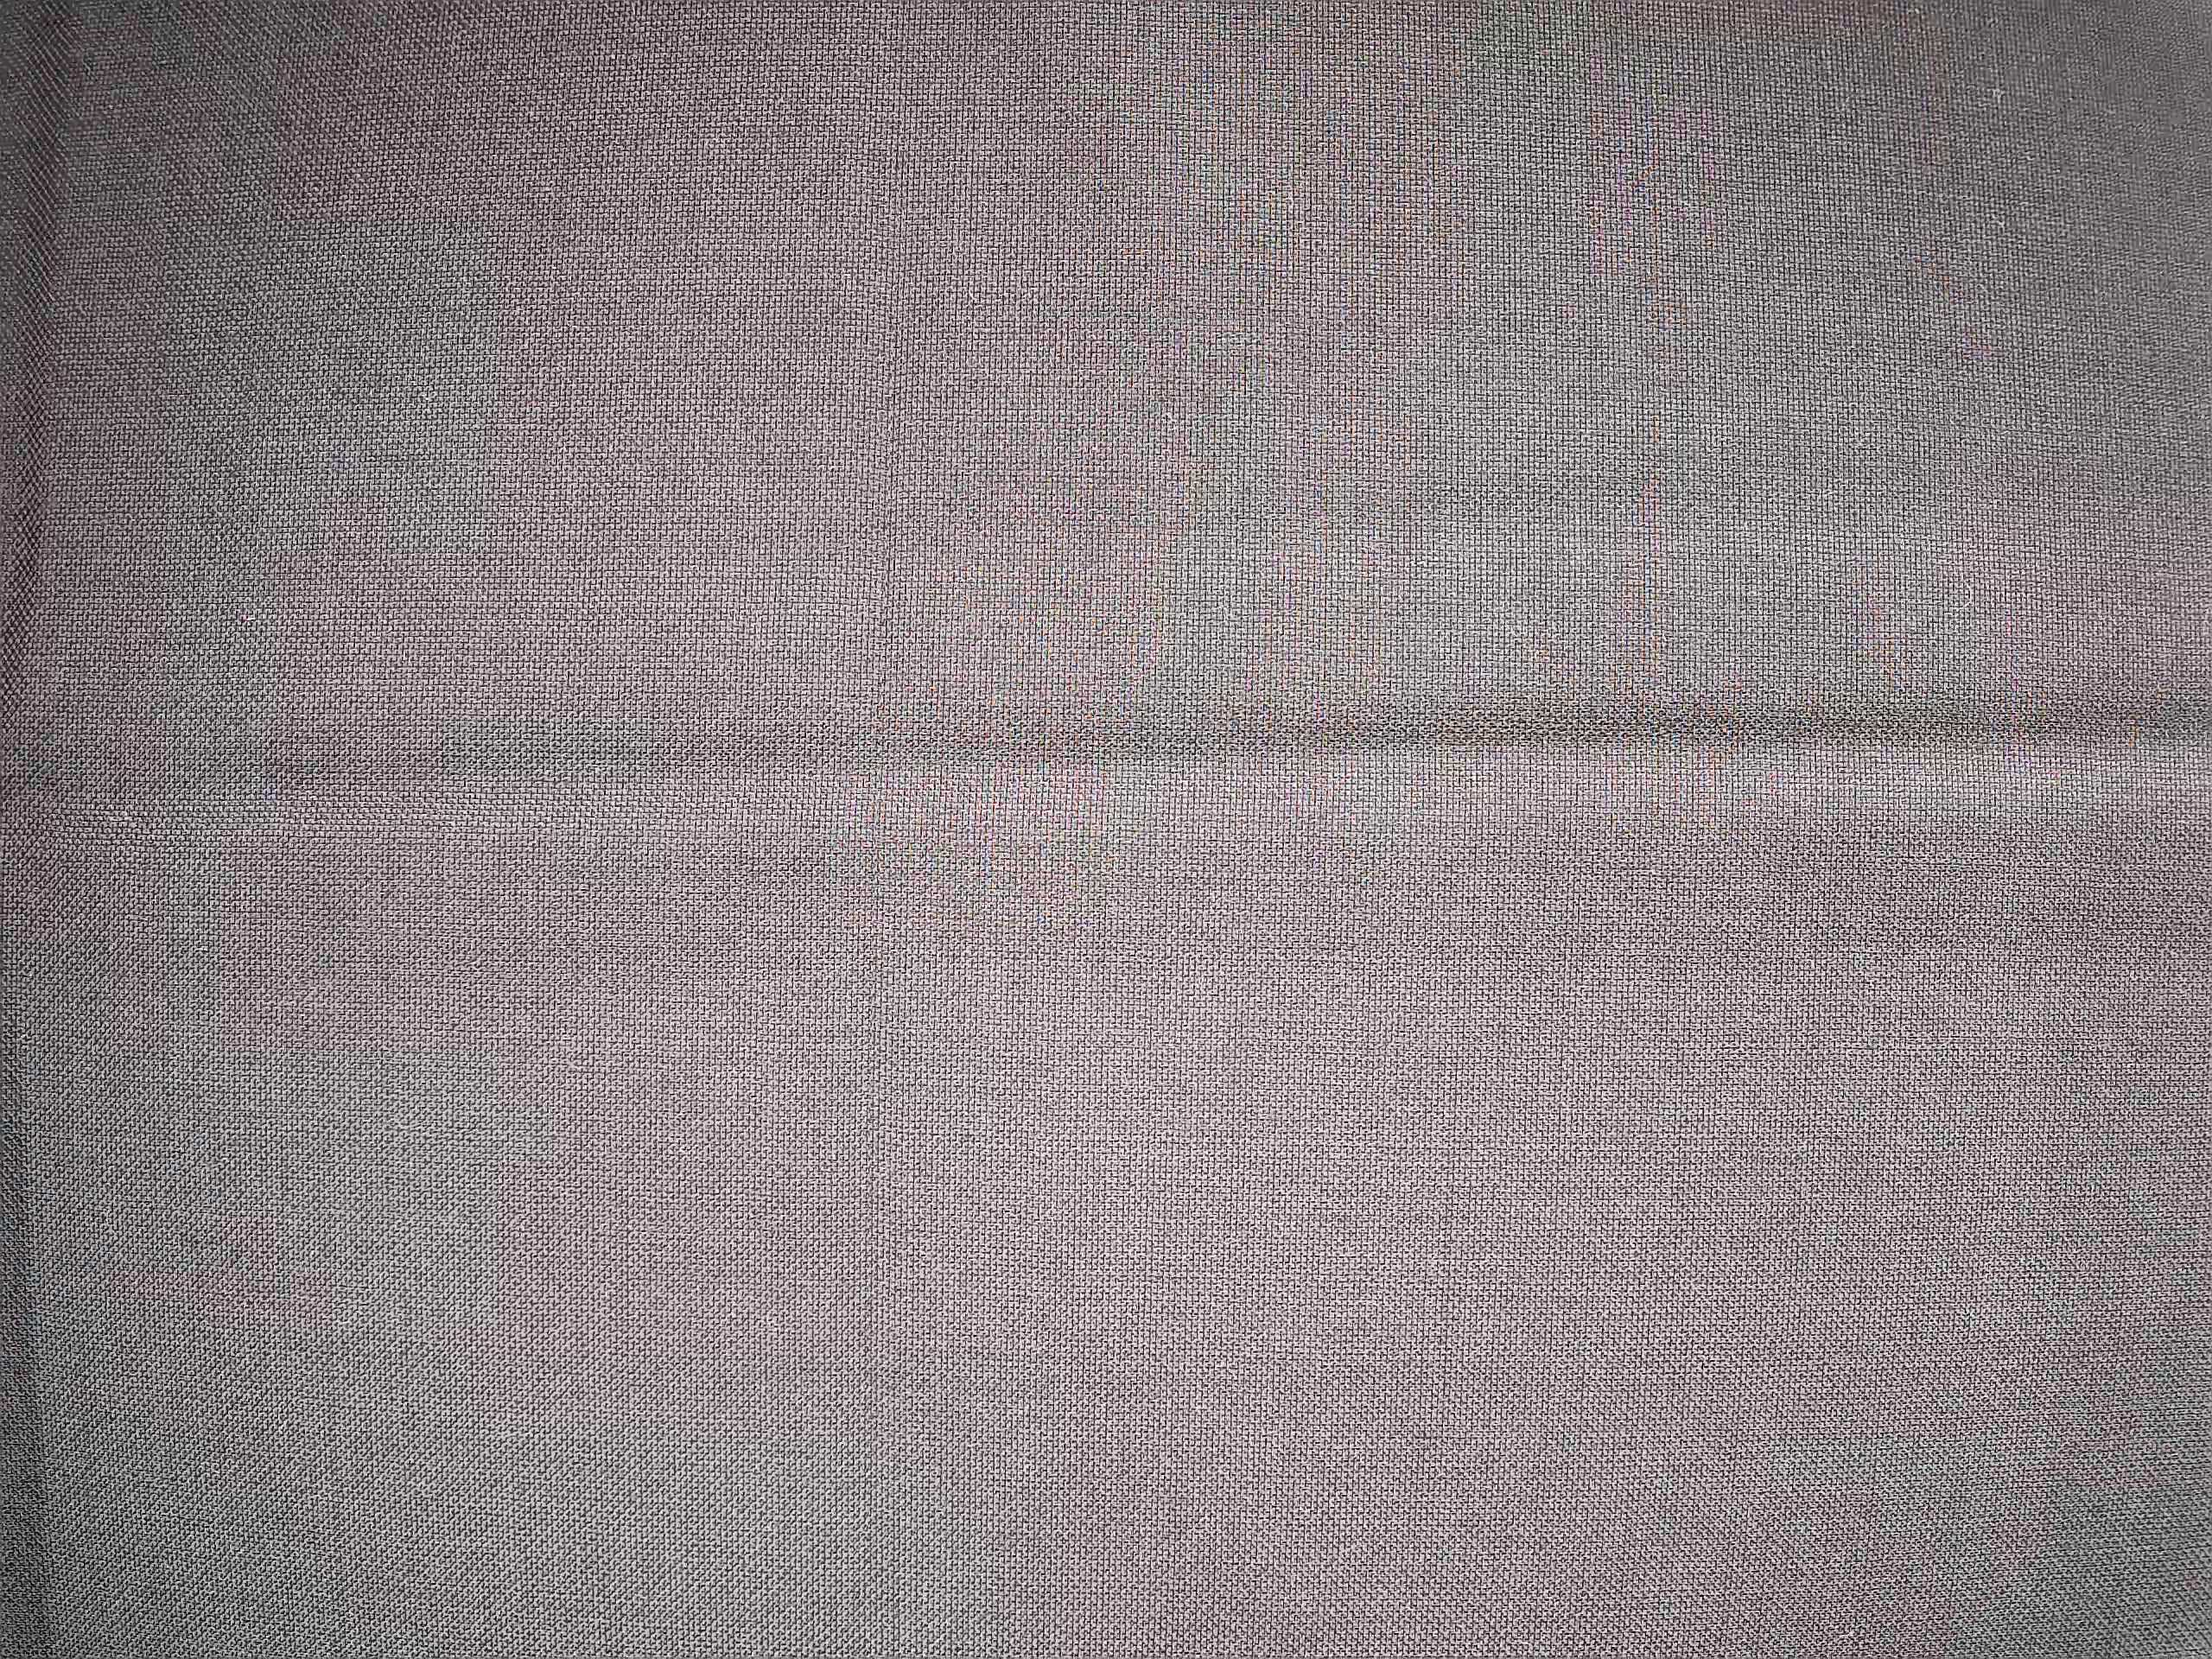hanging-warp: (853, 305, 923, 857)
